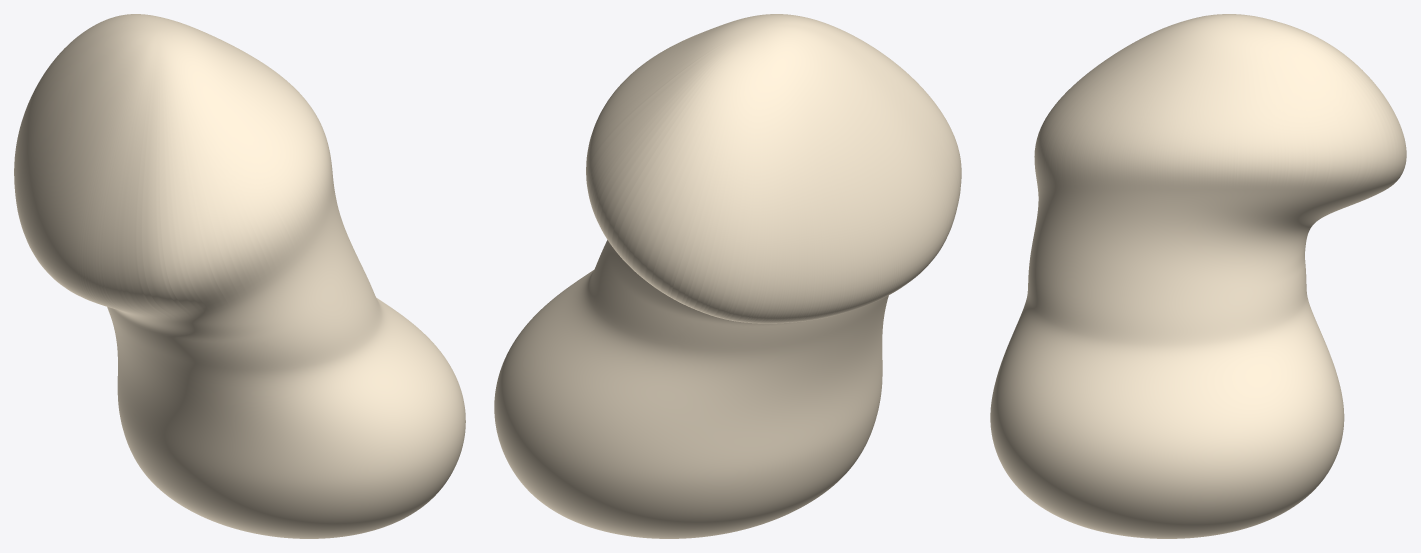
Rendered from leg-right.glb.
The picture shows the model from 3 angles, left to right: view 1: azimuth 30°, elevation 25°; view 2: azimuth 150°, elevation 25°; view 3: azimuth 270°, elevation 25°; orthographic projection. The views are drawn at different scales.
Visible parts, largest first — view 1: Leg_R; view 2: Leg_R; view 3: Leg_R.
Part boxes in pixels (x1,y1,x2,y2): Leg_R: (14, 14, 465, 538); Leg_R: (494, 14, 961, 538); Leg_R: (990, 14, 1406, 538).
Size of the model in its own units: 25.91 by 31.5 by 27.05.
